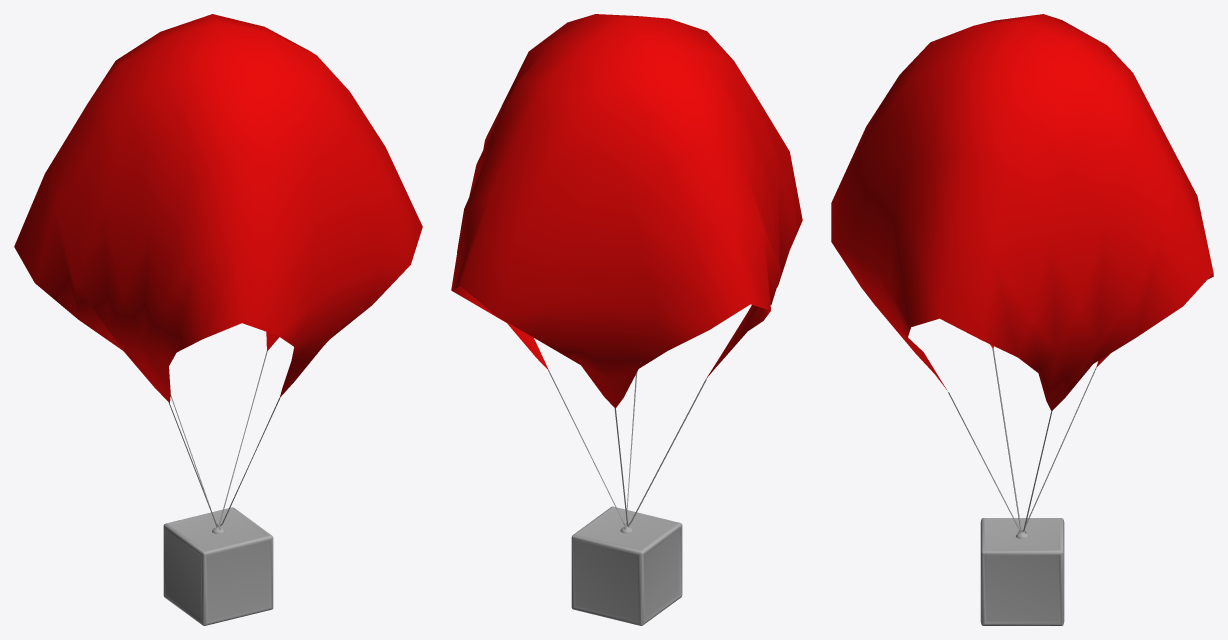
Rendered from crate_paracute_mesh.fbx.
3 renders of one model, left to right at view 1: azimuth 30°, elevation 25°; view 2: azimuth 150°, elevation 25°; view 3: azimuth 270°, elevation 25°, orthographic.
Parts seen in each view (by area): view 1: crate; view 2: crate; view 3: crate.
Boxes of the visible parts, <box> form: crate: <box>14,14,422,625</box>; crate: <box>451,14,802,625</box>; crate: <box>831,14,1213,625</box>.
Size of the model in its own units: 55.59 by 94.51 by 55.59.
